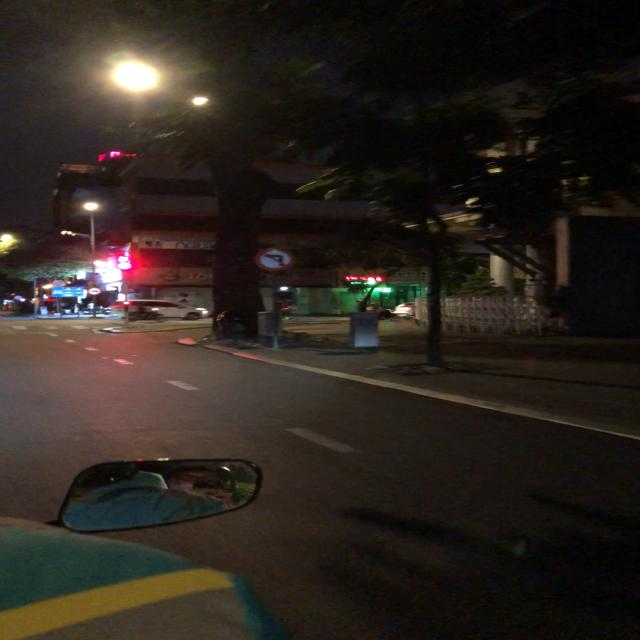Bien bao cam re trai: (252, 244, 302, 273)
Bien bao cam xe so-mi ro-mooc: (85, 285, 103, 297)
